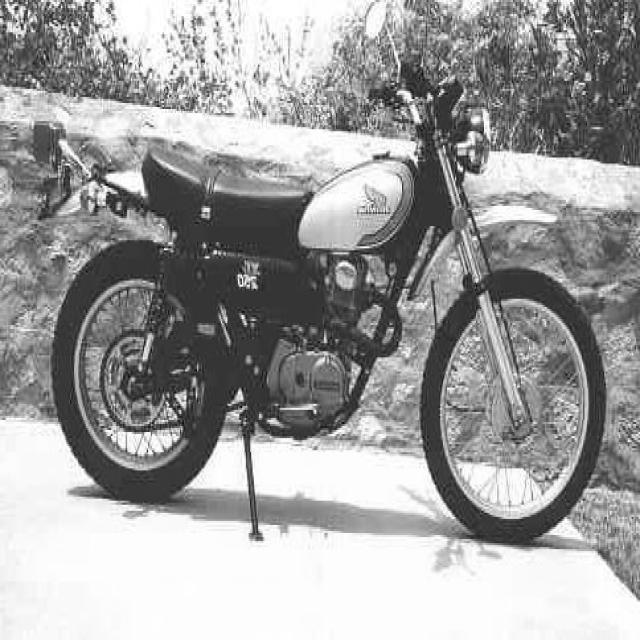Motorcycle: (52, 65, 607, 542)
